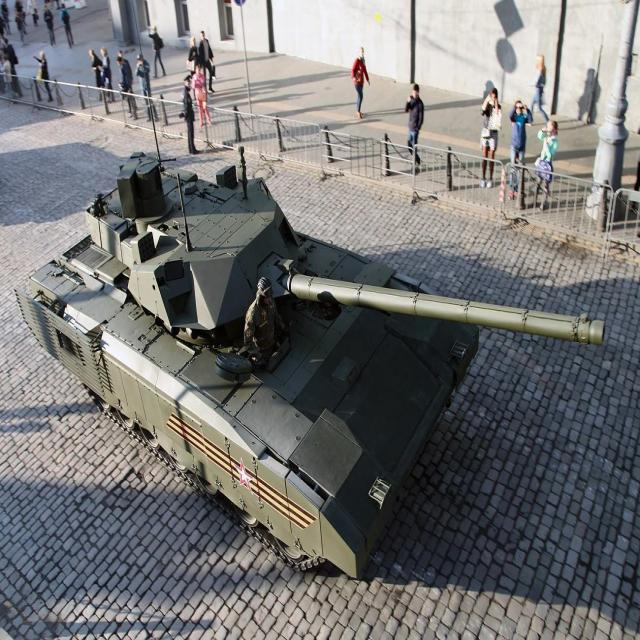Tanks: (19, 145, 495, 583)
